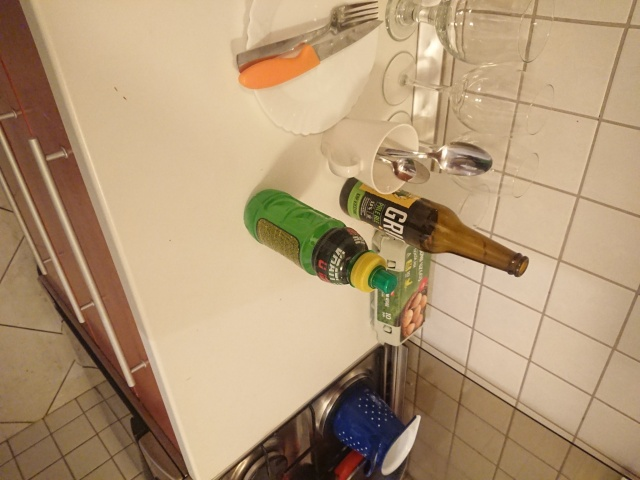Vindi Iso Sport Lemon-Grapefruit 500mL: (241, 186, 400, 296)
